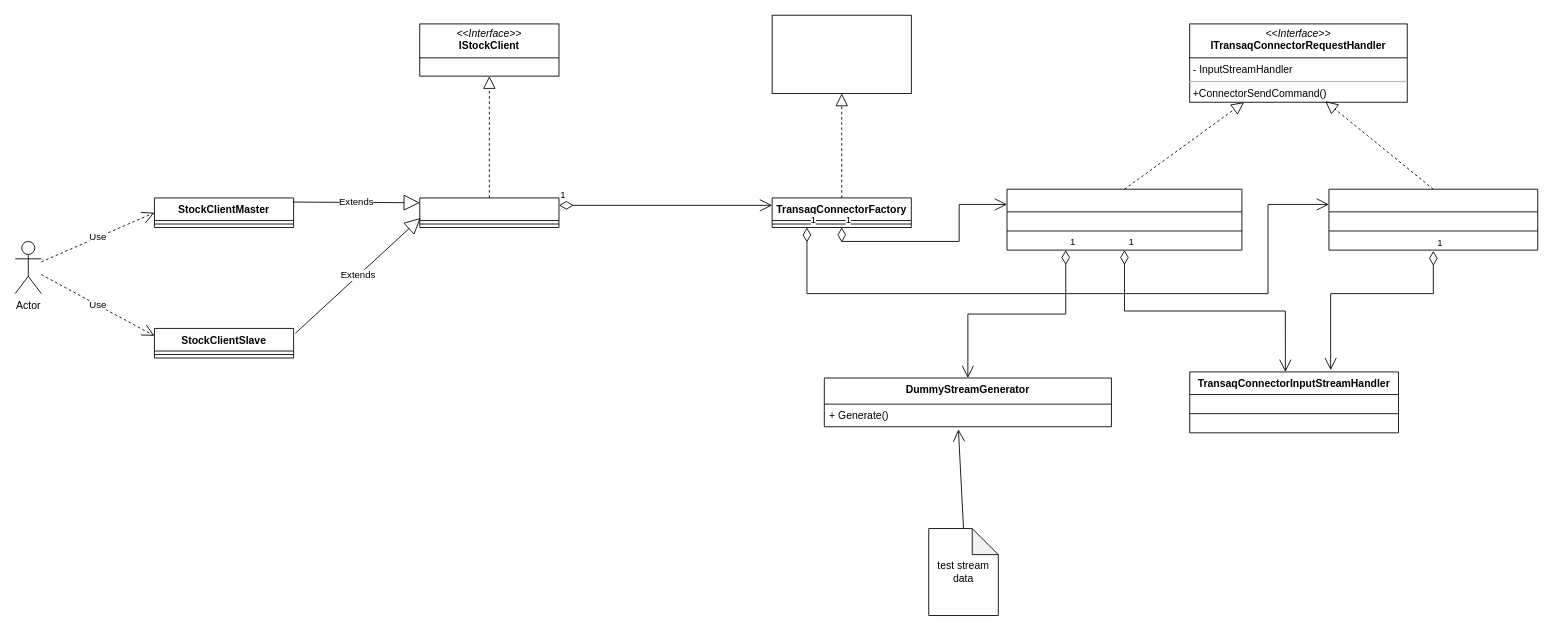
The diagram is 1553 pixels wide and 631 high, and some of its shapes have lost their labels. Here are the shapes that lost their labels. From the top down, the centre of each, then its label:
the point at 841,54: <<Interface>> ITransaqConnectorFactory +GetMater() +GetSlave()
the point at 489,212: BaseStockClient
the point at 1124,219: DummyTransaqConnectorRequestHandler
the point at 1433,219: TransaqConnectorRequestHandler
